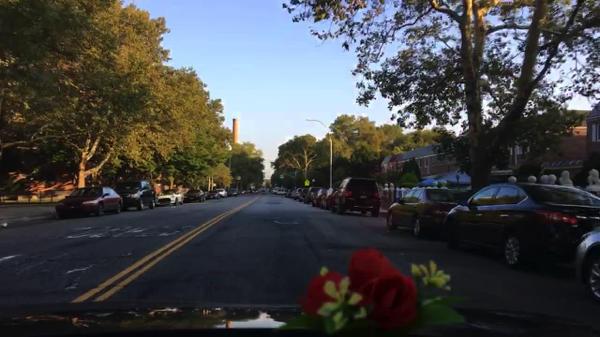car: (441, 182, 599, 271), (385, 184, 481, 241), (55, 186, 124, 219), (329, 177, 381, 219), (574, 227, 598, 304), (107, 180, 159, 211), (155, 188, 184, 205), (320, 187, 340, 211), (311, 189, 330, 208), (306, 186, 324, 205), (182, 189, 206, 203), (301, 188, 310, 204), (295, 187, 304, 202), (215, 188, 228, 198), (205, 190, 218, 200), (285, 188, 297, 197), (274, 188, 289, 195), (228, 189, 239, 198), (289, 189, 297, 200), (238, 190, 245, 196), (272, 187, 278, 193), (257, 188, 265, 192), (251, 190, 258, 193), (248, 188, 253, 192), (244, 190, 249, 194), (252, 188, 257, 190), (269, 189, 273, 191)
traffic light: (236, 175, 241, 181), (279, 174, 285, 179)
traffic sign: (304, 179, 310, 187)
